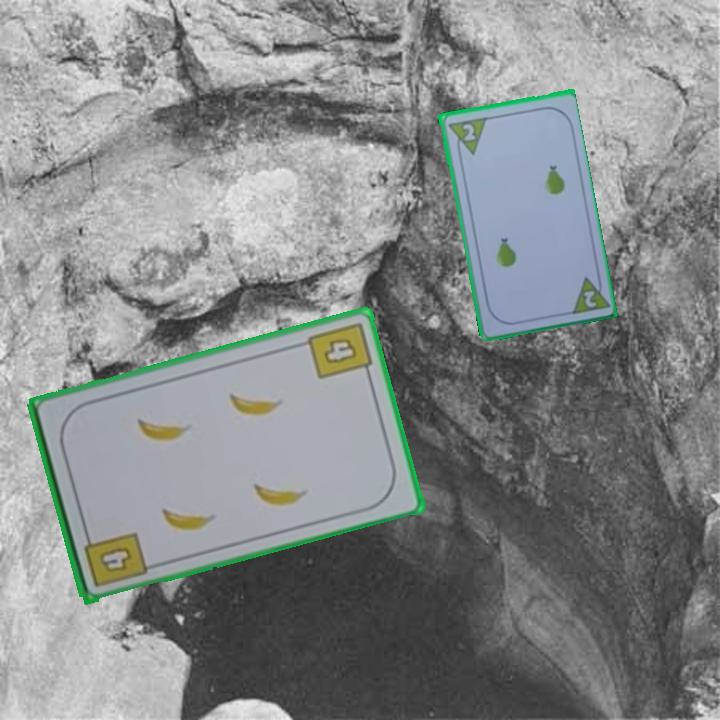2p: (566, 270, 611, 317), (459, 120, 478, 143)
4b: (304, 318, 375, 382), (80, 527, 150, 590)
